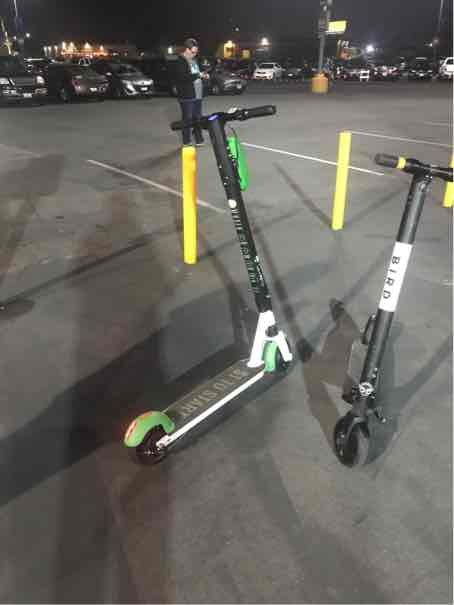scooter: (109, 105, 303, 482)
